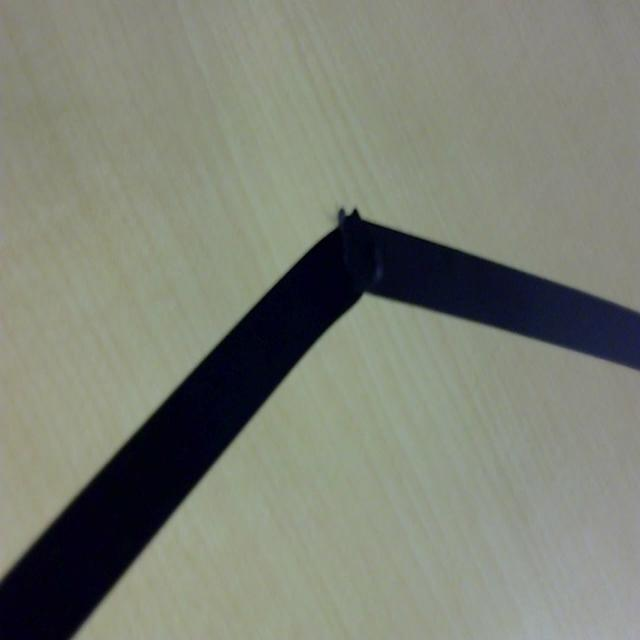tape: (0, 212, 640, 640)
